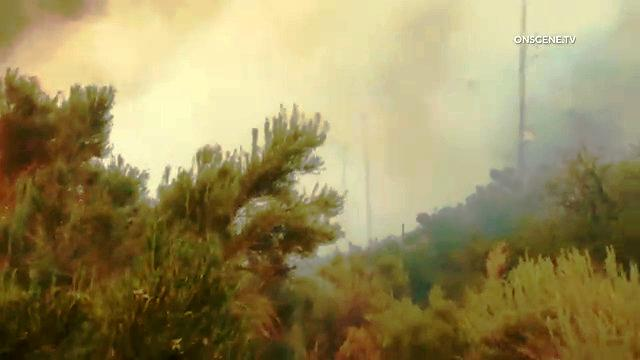smoke: (0, 0, 124, 86)
